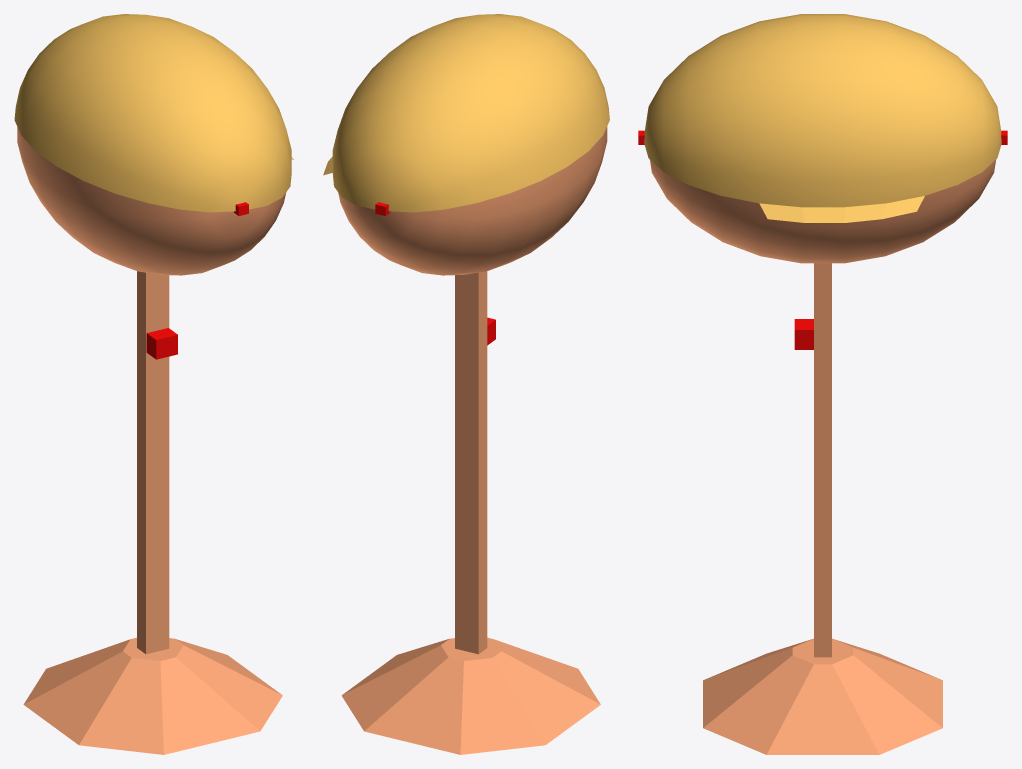
The model's file is Talk_container.FBX.
3 renders of one model, left to right at view 1: azimuth 30°, elevation 25°; view 2: azimuth 150°, elevation 25°; view 3: azimuth 270°, elevation 25°, orthographic.
Visible parts, largest first — view 1: Talk_contaoner, Talk_contaoner2; view 2: Talk_contaoner, Talk_contaoner2; view 3: Talk_contaoner2, Talk_contaoner.
Part boxes in pixels (<box>): Talk_contaoner: <box>17,127,286,754</box>; Talk_contaoner2: <box>14,14,293,212</box>; Talk_contaoner: <box>338,126,607,754</box>; Talk_contaoner2: <box>323,14,609,212</box>; Talk_contaoner2: <box>644,14,1001,222</box>; Talk_contaoner: <box>638,130,1007,754</box>.
Size of the model in its own units: 4.8 by 13.45 by 6.64.
